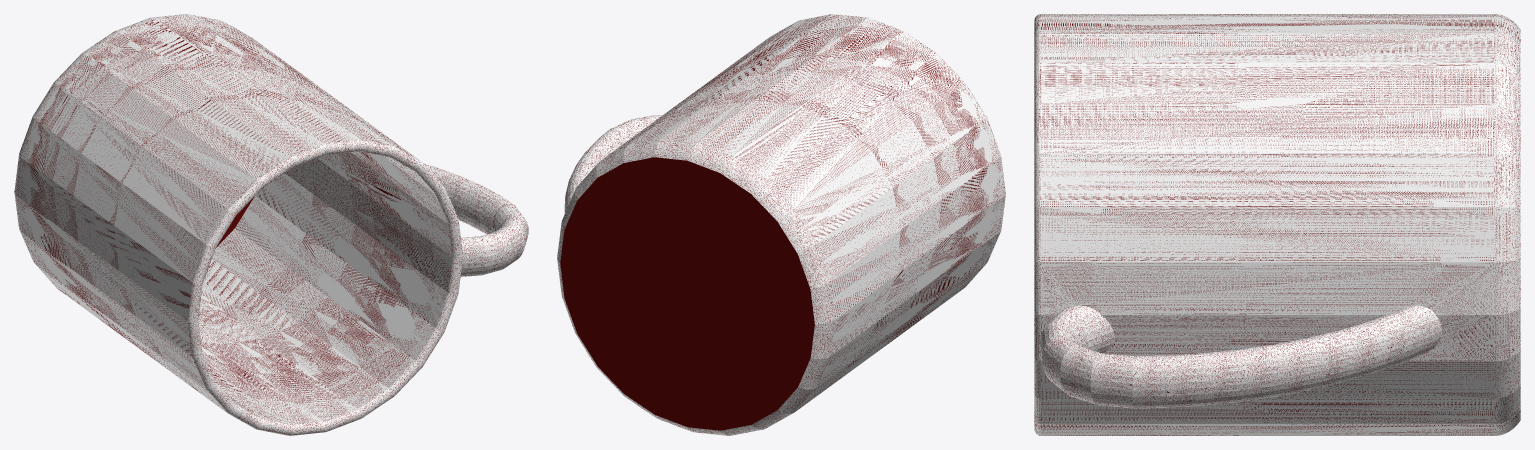
3 renders of one model, left to right at view 1: azimuth 30°, elevation 25°; view 2: azimuth 150°, elevation 25°; view 3: azimuth 270°, elevation 25°, orthographic. The views are drawn at different scales.
Visible parts, largest first — view 1: mug; view 2: mug; view 3: mug.
Part boxes in pixels (box(x1,y1,x2,y2)): mug: box(14, 14, 528, 435); mug: box(557, 14, 1005, 435); mug: box(1034, 14, 1520, 435).
Size of the model in its own units: 7.57 by 5.69 by 6.54.
